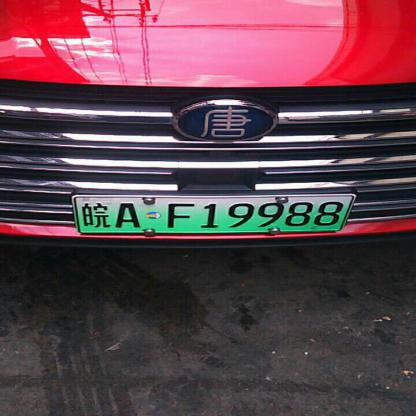lp: (71, 196, 356, 232)
